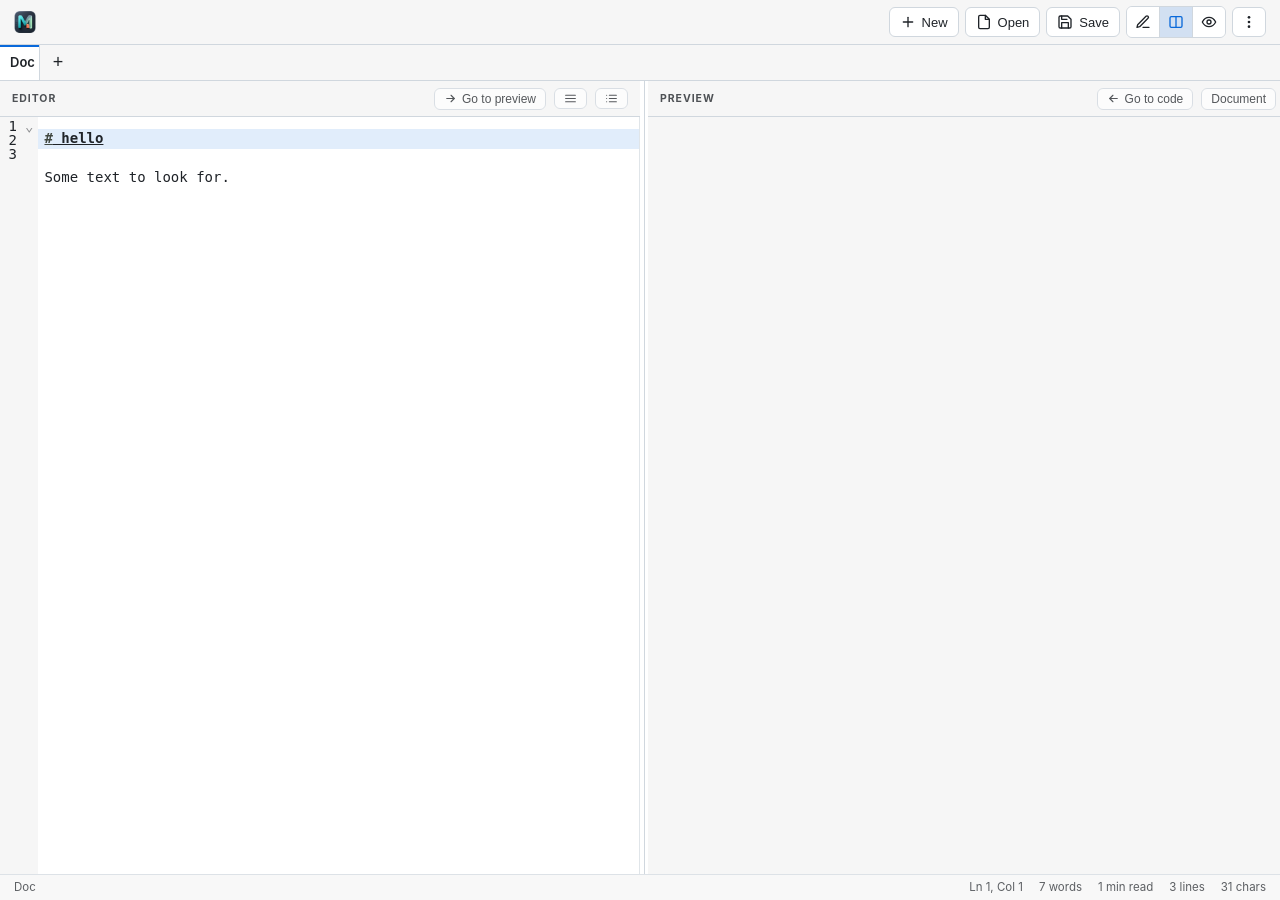
Ctrl+F from outside the editor › closes the menu it is pressed from, as the menu's own Find entry does
Expected: the element with class "cm-editor" is shown, [0, 117, 639, 874]
Step 1. Click the button with class "menu-toggle" → [1249, 22], box [1232, 7, 1266, 37]
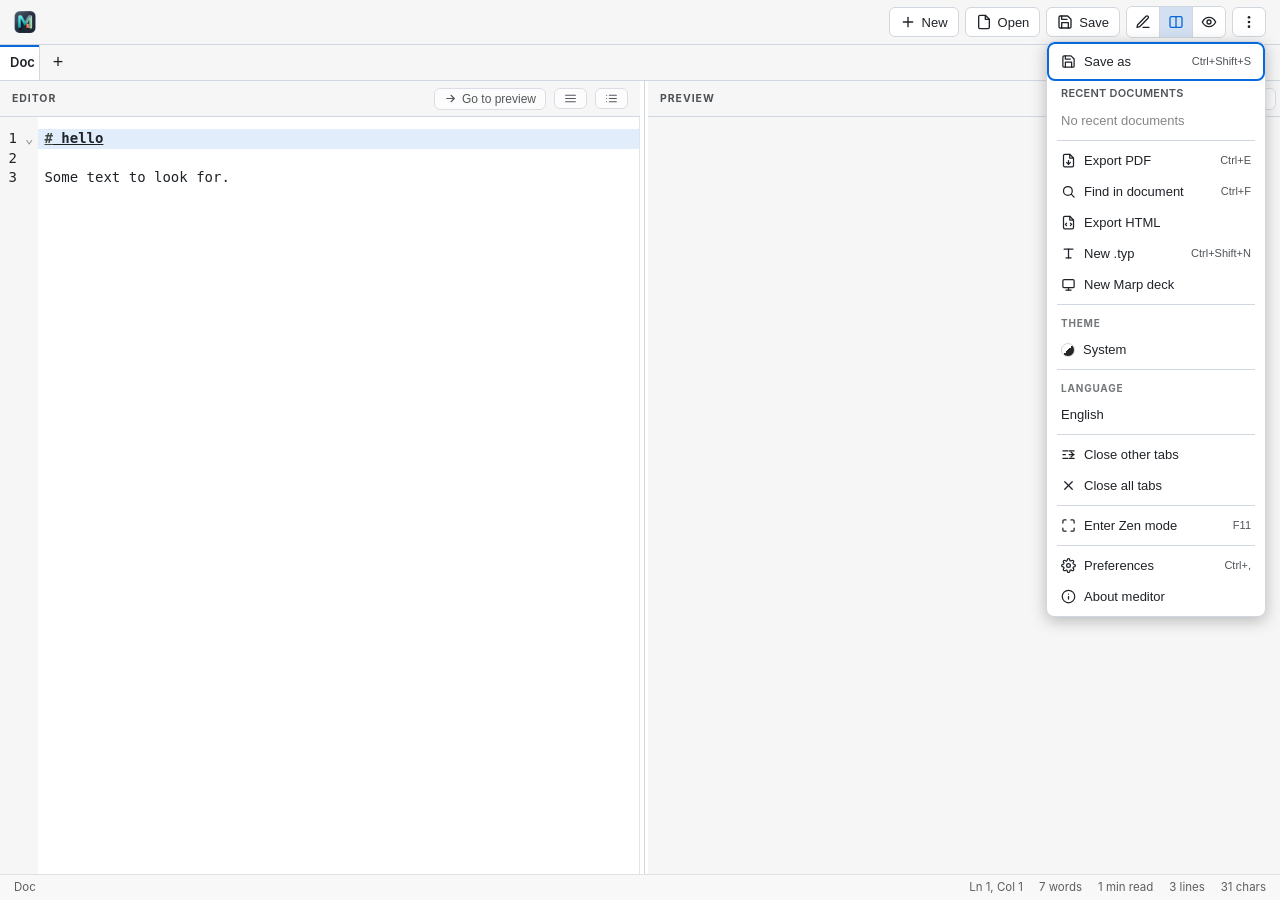
Step 2. Press f in the menu item "Save as Ctrl+Shift+S", box [1051, 46, 1261, 77]
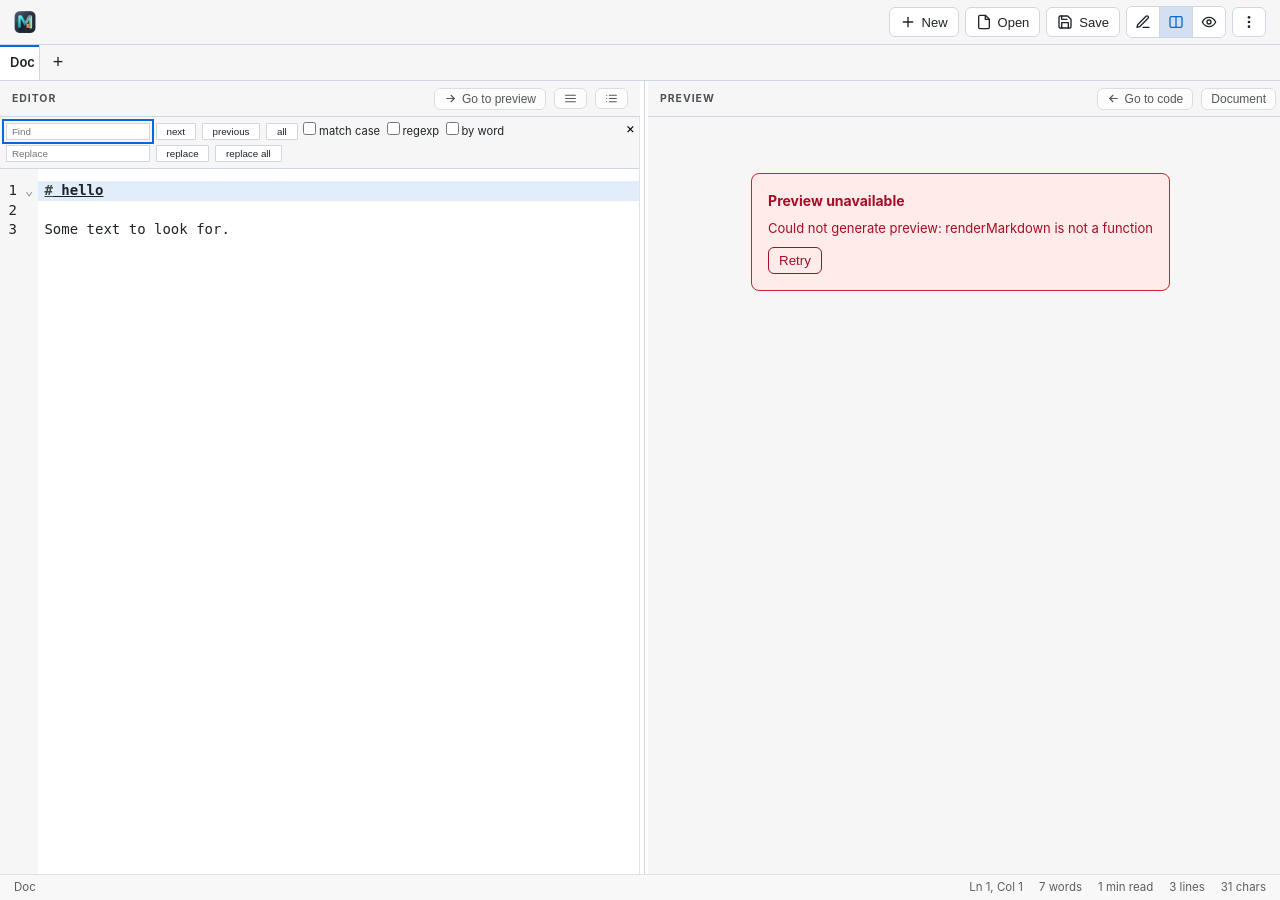
Expected: the menu with id "app-menu" is gone
